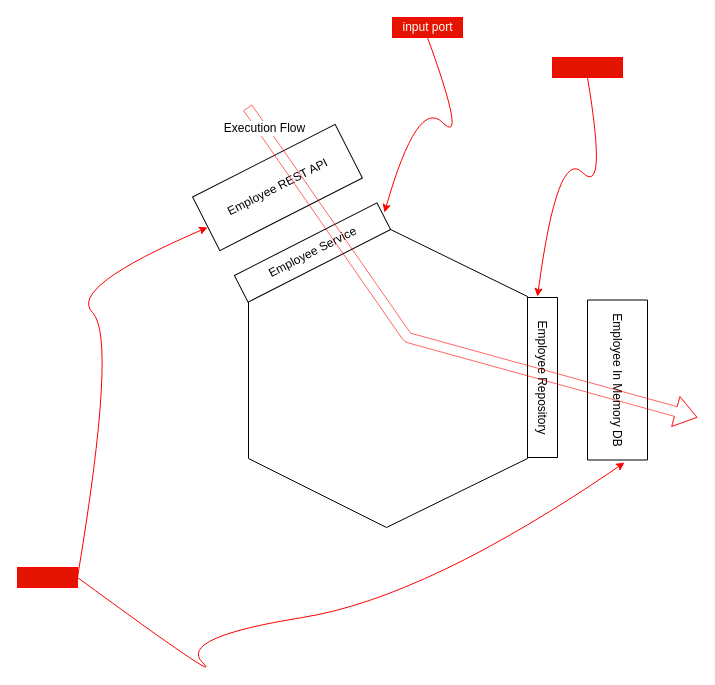
Image size: 715x685. Some labels were removed from this diagram. The box of each missing label's shape, as (x1, y1, x2, y2) in pixels:
Adapters: (16, 566, 78, 588)
Employee Domain: (242, 226, 542, 528)
output port: (552, 56, 622, 78)
